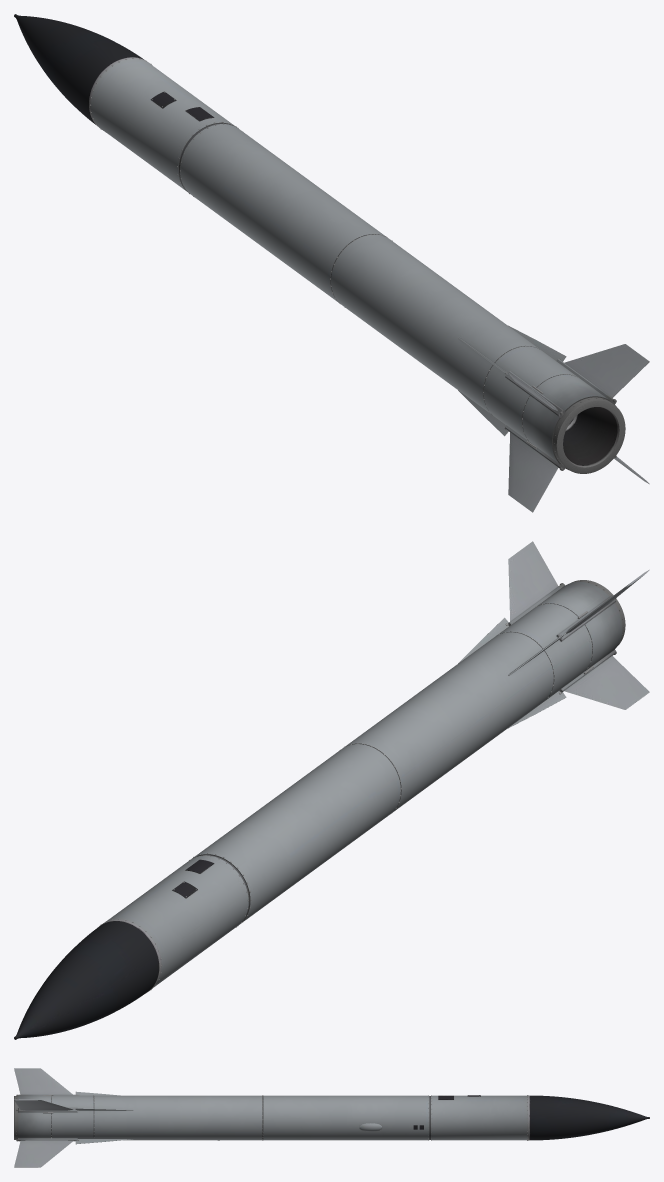
File: msl_5v55.glb
3 renders of one model, top to bottom at view 1: azimuth 30°, elevation 25°; view 2: azimuth 150°, elevation 25°; view 3: azimuth 270°, elevation 25°, orthographic. The views are drawn at different scales.
Visible parts, largest first — view 1: body|V55_atlas, fin2|V55_atlas, fin0|V55_atlas; view 2: body|V55_atlas, fin2|V55_atlas, fin0|V55_atlas; view 3: body|V55_atlas, fin1|V55_atlas, fin3|V55_atlas, fin0|V55_atlas.
Boxes of the visible parts, x1,y1,x2,y2 form: body|V55_atlas: (14, 14, 625, 473); fin2|V55_atlas: (508, 432, 558, 512); fin0|V55_atlas: (564, 344, 649, 397); body|V55_atlas: (14, 580, 625, 1039); fin2|V55_atlas: (564, 656, 649, 709); fin0|V55_atlas: (508, 541, 558, 621); body|V55_atlas: (14, 1091, 649, 1144); fin1|V55_atlas: (14, 1140, 73, 1167); fin3|V55_atlas: (14, 1068, 72, 1094); fin0|V55_atlas: (14, 1099, 72, 1110).
Size of the model in its own units: 0.8175 by 0.8175 by 6.9.
5 materials, 5 textured.
